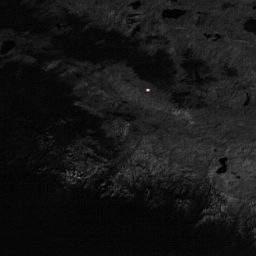Target: (144, 86, 150, 93)
